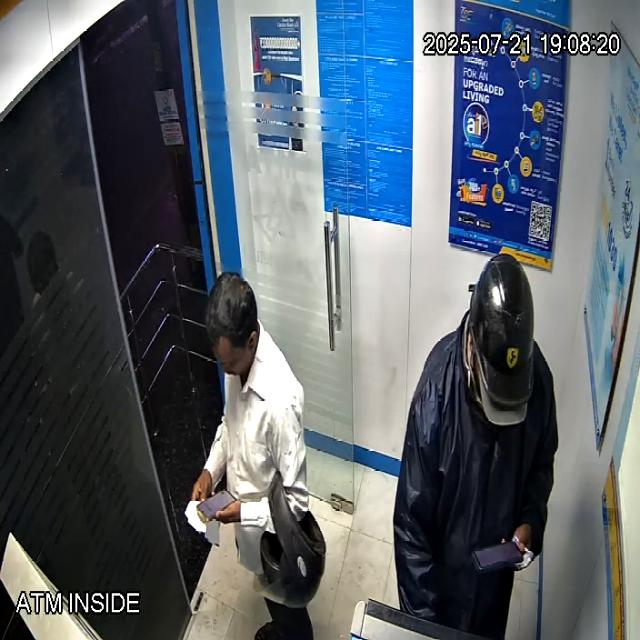helmet: (469, 253, 534, 425)
no_helmet: (204, 271, 259, 384)
